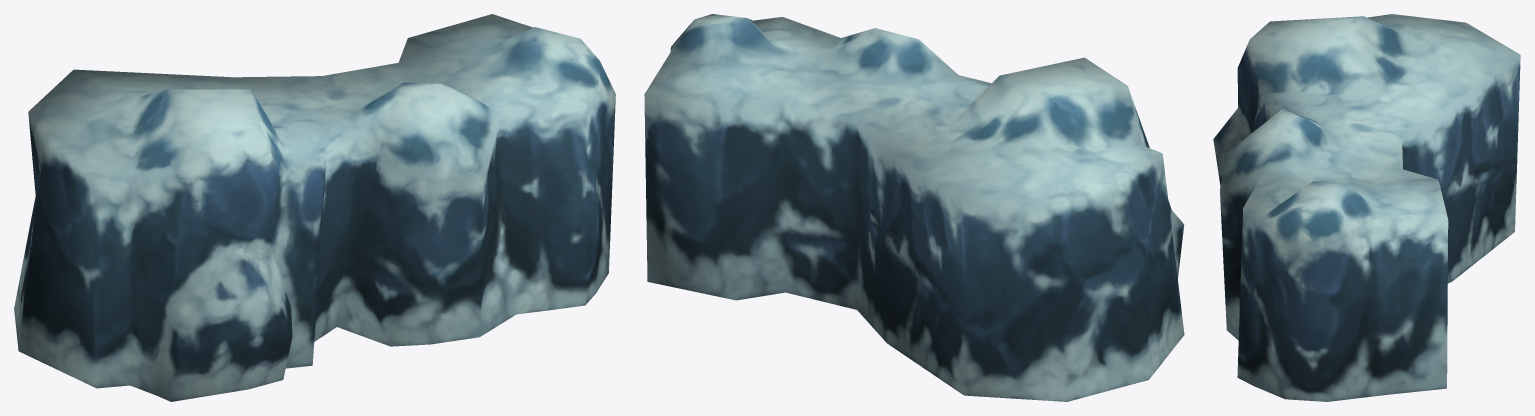
File: Stage_BingYuan_ShanShi05.FBX
The picture shows the model from 3 angles, left to right: view 1: azimuth 30°, elevation 25°; view 2: azimuth 150°, elevation 25°; view 3: azimuth 270°, elevation 25°; orthographic projection. The views are drawn at different scales.
Visible parts, largest first — view 1: Stage_BingYuan_ShanShi05; view 2: Stage_BingYuan_ShanShi05; view 3: Stage_BingYuan_ShanShi05.
Boxes of the visible parts, box(x1,y1,x2,y2) form: Stage_BingYuan_ShanShi05: box(14, 14, 615, 401); Stage_BingYuan_ShanShi05: box(644, 14, 1184, 401); Stage_BingYuan_ShanShi05: box(1213, 14, 1520, 401).
Bounding box in the file's own units: 1286 × 564 × 732.
